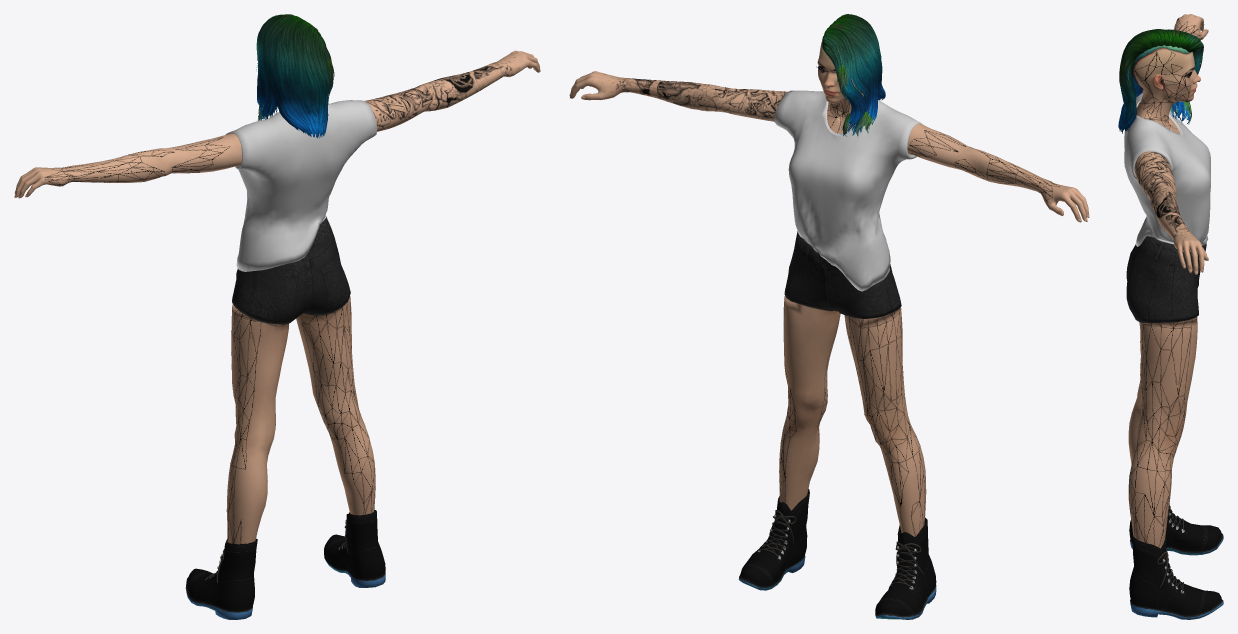
The picture shows the model from 3 angles, left to right: view 1: azimuth 30°, elevation 25°; view 2: azimuth 150°, elevation 25°; view 3: azimuth 270°, elevation 25°; orthographic projection. The views are drawn at different scales.
Visible parts, largest first — view 1: Skin_Mesh; view 2: Skin_Mesh; view 3: Skin_Mesh.
Part boxes in pixels (box(x1,y1,x2,y2)): Skin_Mesh: box(14, 14, 540, 619); Skin_Mesh: box(569, 14, 1089, 619); Skin_Mesh: box(1118, 14, 1223, 619).
Bounding box in the file's own units: 172 × 181 × 31.32.
